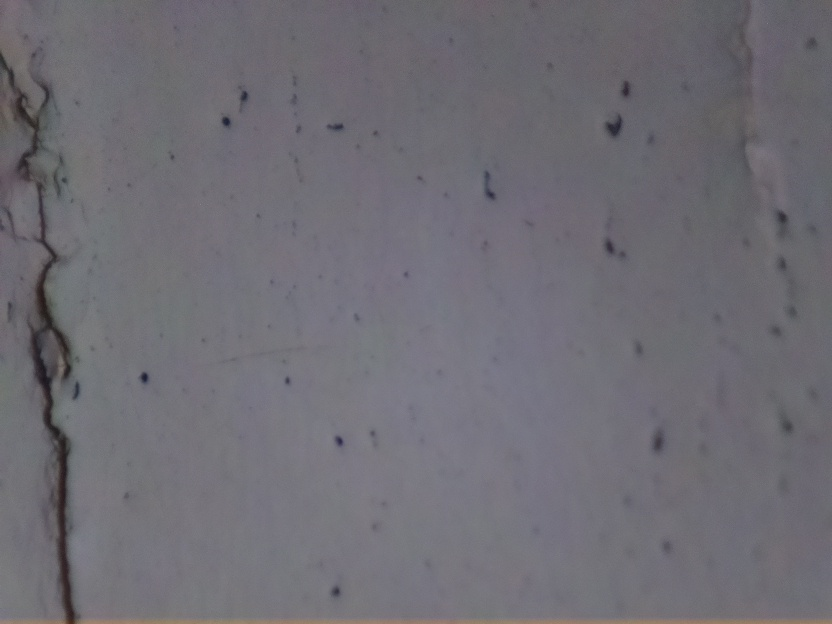crack: (1, 52, 126, 624)
